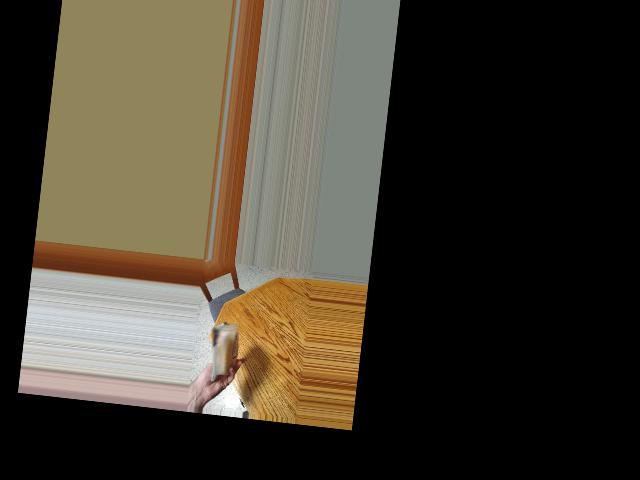cheese: (202, 322, 246, 378)
